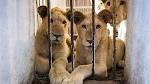lion: (70, 10, 128, 82), (33, 7, 68, 83)
